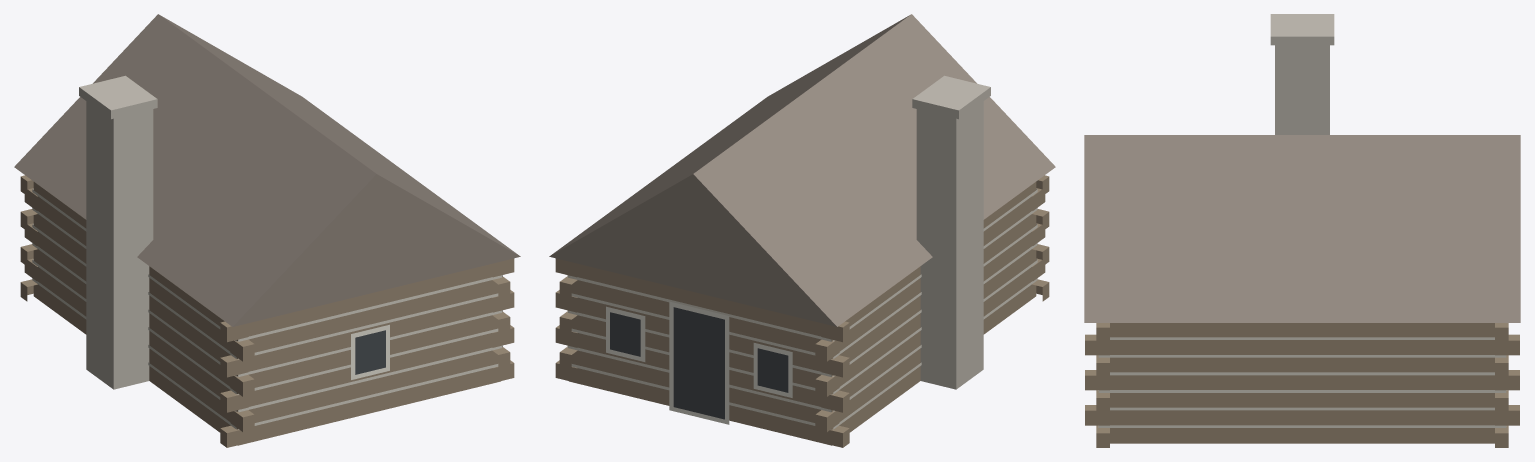
File: recon_1835_blk_lake_clark_d1_01__inferred_1835.glb
The picture shows the model from 3 angles, left to right: view 1: azimuth 30°, elevation 25°; view 2: azimuth 150°, elevation 25°; view 3: azimuth 270°, elevation 25°; orthographic projection.
Visible parts, largest first — view 1: recon_1835_blk_lake_clark_d1_01__inferred_1835; view 2: recon_1835_blk_lake_clark_d1_01__inferred_1835; view 3: recon_1835_blk_lake_clark_d1_01__inferred_1835.
Part boxes in pixels (box(x1,y1,x2,y2)): recon_1835_blk_lake_clark_d1_01__inferred_1835: box(14, 14, 520, 447); recon_1835_blk_lake_clark_d1_01__inferred_1835: box(549, 14, 1055, 447); recon_1835_blk_lake_clark_d1_01__inferred_1835: box(1084, 14, 1520, 447).
Bounding box in the file's own units: 6.4 × 5.51 × 7.65.
